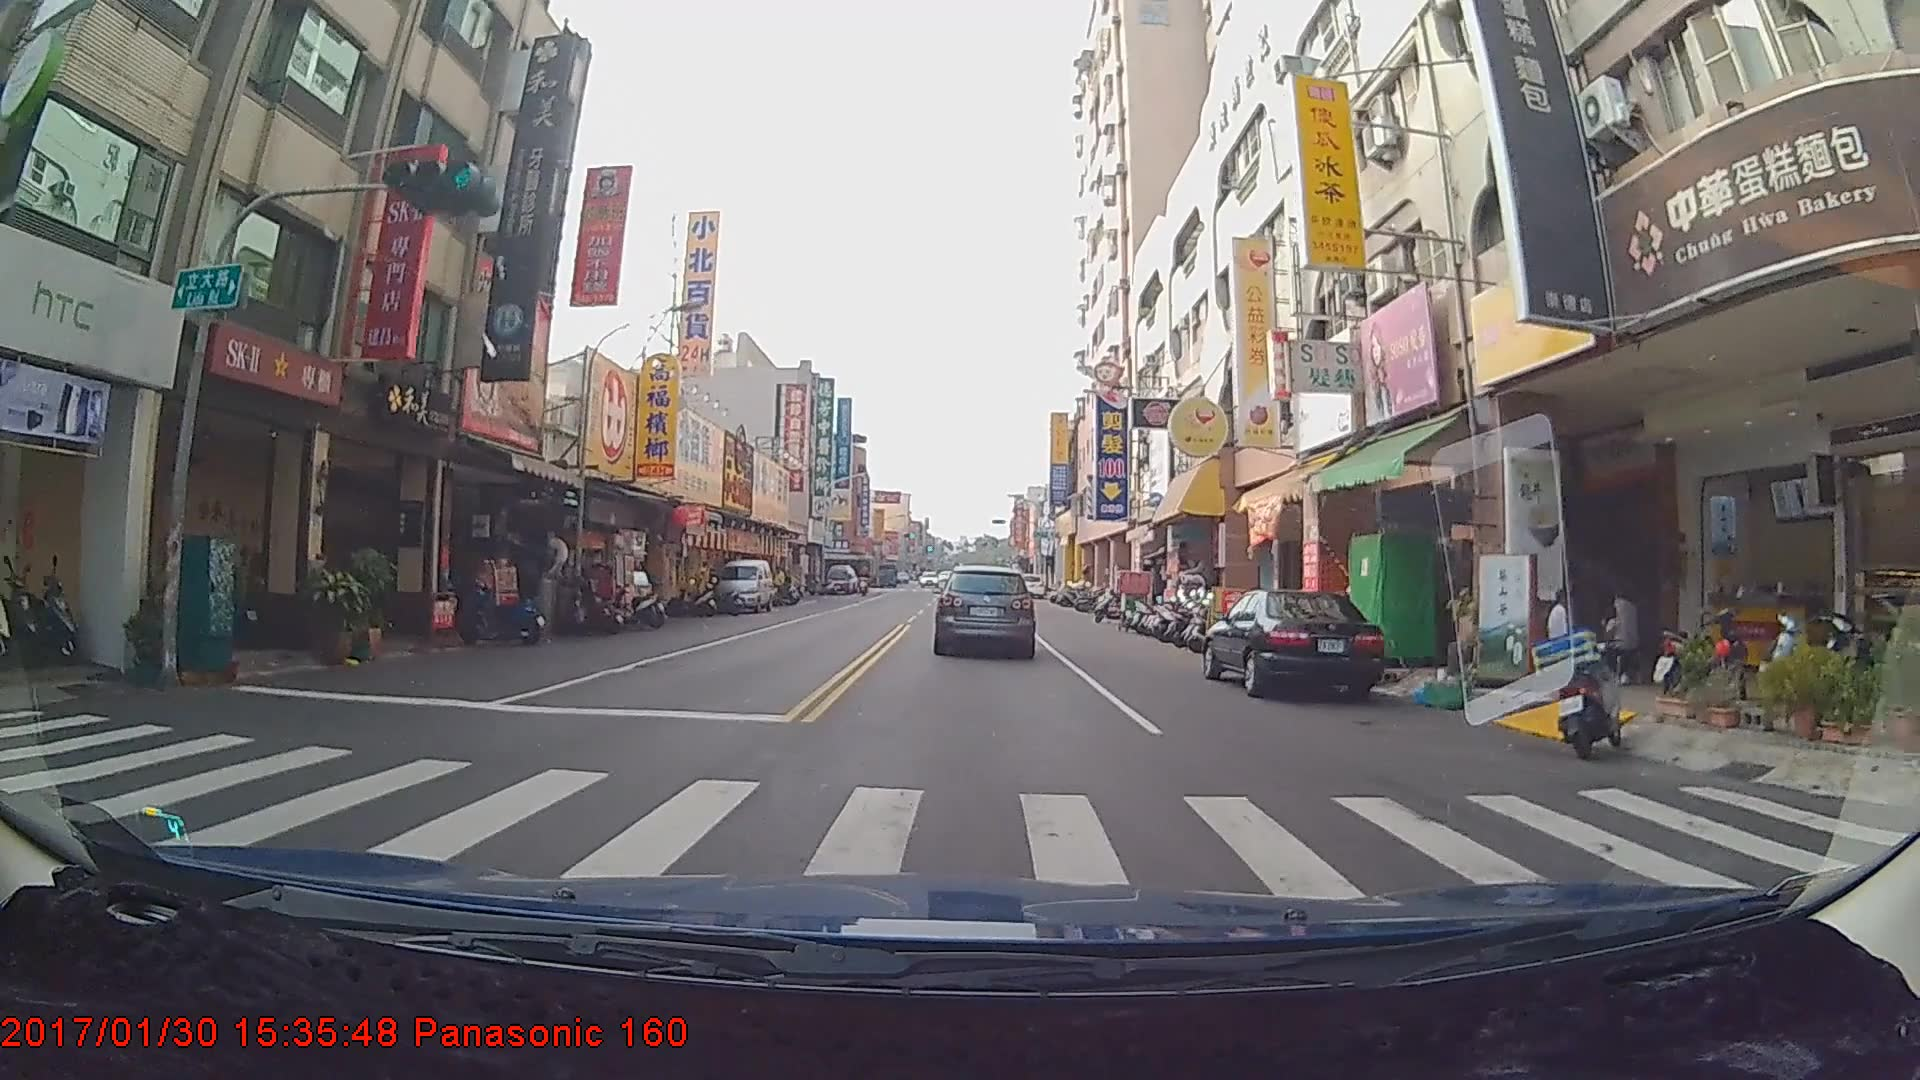pedestrian: (1600, 582, 1641, 685), (1543, 582, 1584, 681)
vehicle: (1203, 585, 1381, 697), (935, 564, 1035, 657), (715, 556, 773, 612), (824, 558, 858, 591), (1013, 578, 1042, 604)
